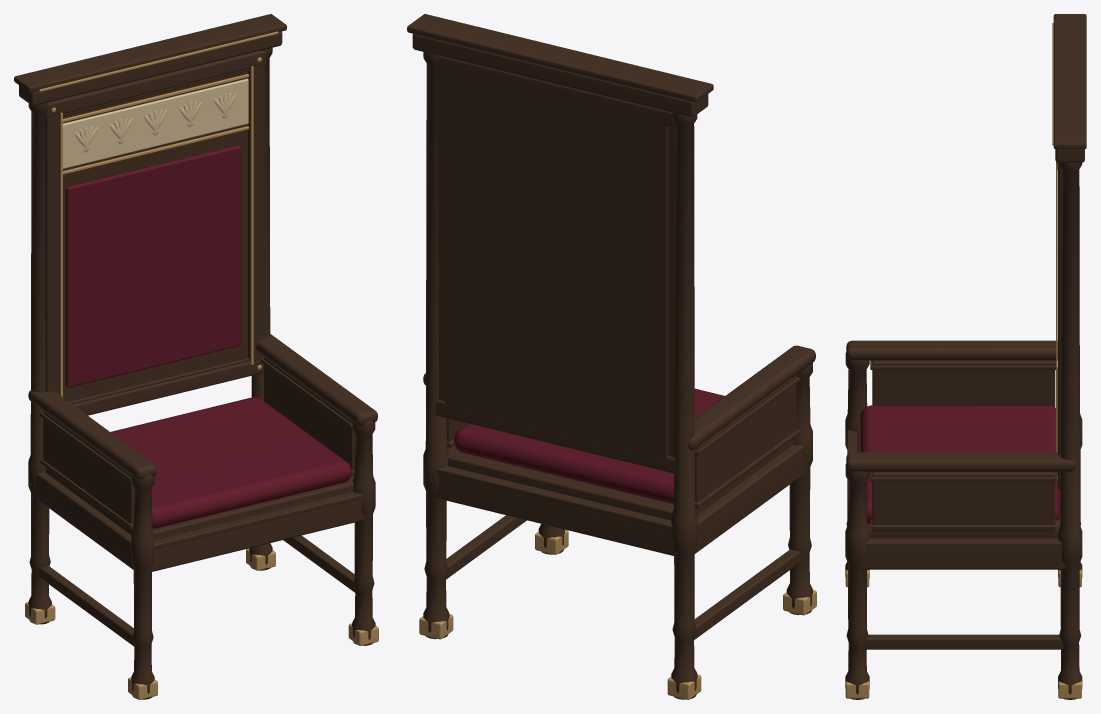
File: imperial-throne.glb
3 views of the same model, side by side, from view 1: azimuth 30°, elevation 25°; view 2: azimuth 150°, elevation 25°; view 3: azimuth 270°, elevation 25° (orthographic). The views are drawn at different scales.
Visible parts, largest first — view 1: Carved walnut, Oxblood upholstery, Carved ivory panels, Restrained gilt inlay; view 2: Carved walnut, Oxblood upholstery, Restrained gilt inlay; view 3: Carved walnut, Oxblood upholstery, Restrained gilt inlay.
Boxes of the visible parts, bbox=[...] form: Carved walnut: bbox=[14, 14, 377, 699]; Oxblood upholstery: bbox=[65, 145, 351, 528]; Carved ivory panels: bbox=[63, 78, 248, 168]; Restrained gilt inlay: bbox=[25, 31, 378, 699]; Carved walnut: bbox=[407, 14, 815, 699]; Oxblood upholstery: bbox=[454, 388, 724, 504]; Restrained gilt inlay: bbox=[419, 529, 816, 699]; Carved walnut: bbox=[845, 14, 1086, 699]; Oxblood upholstery: bbox=[860, 405, 1059, 523]; Restrained gilt inlay: bbox=[845, 23, 1081, 698].
Bounding box in the file's own units: 2.9 × 5.82 × 2.27.
